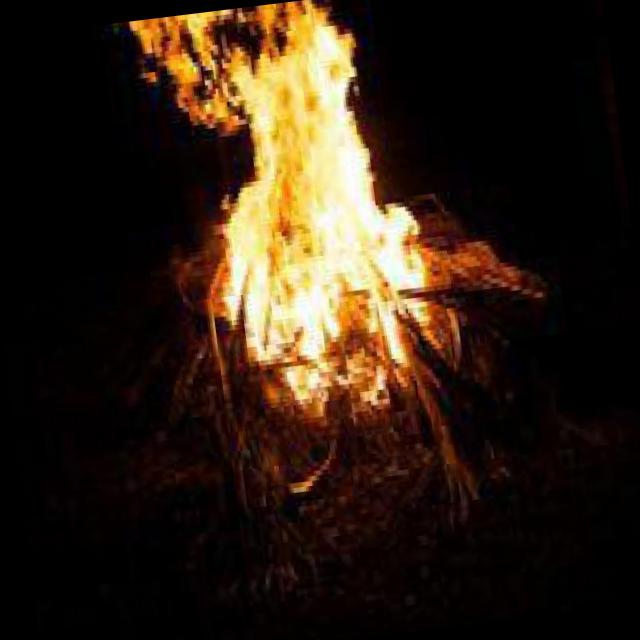fire: (110, 0, 459, 452)
